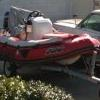Boat: (2, 3, 99, 76)
